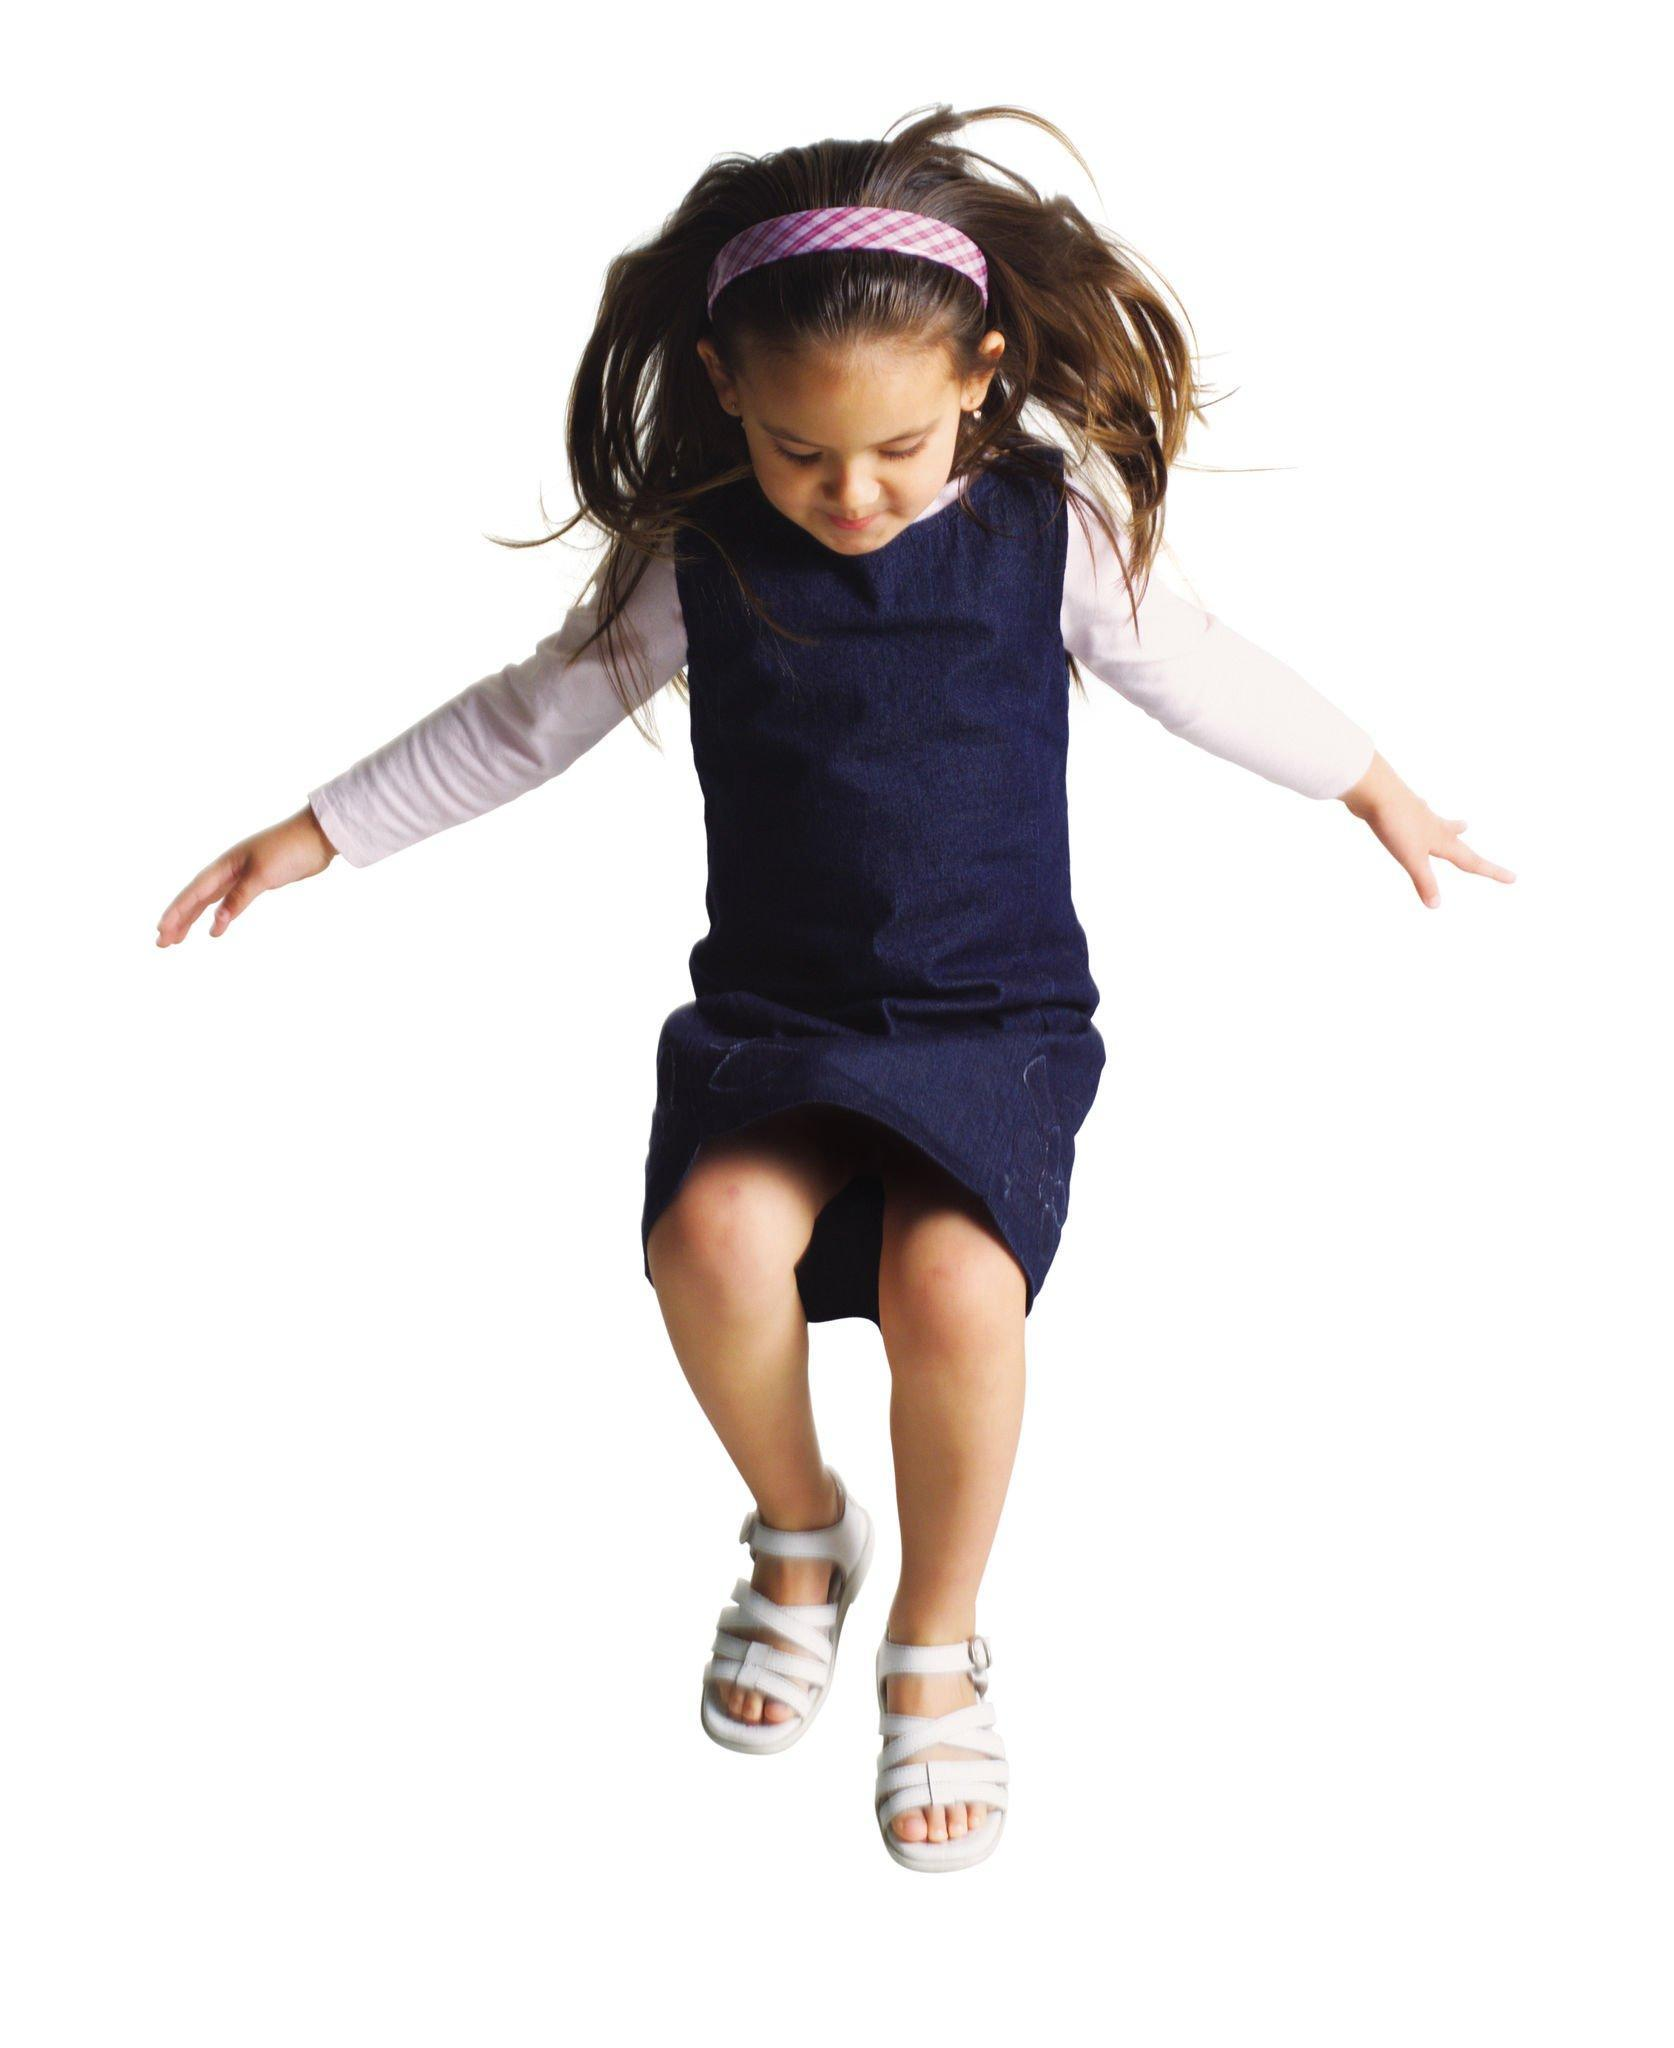Healthy: (732, 296, 971, 585)
